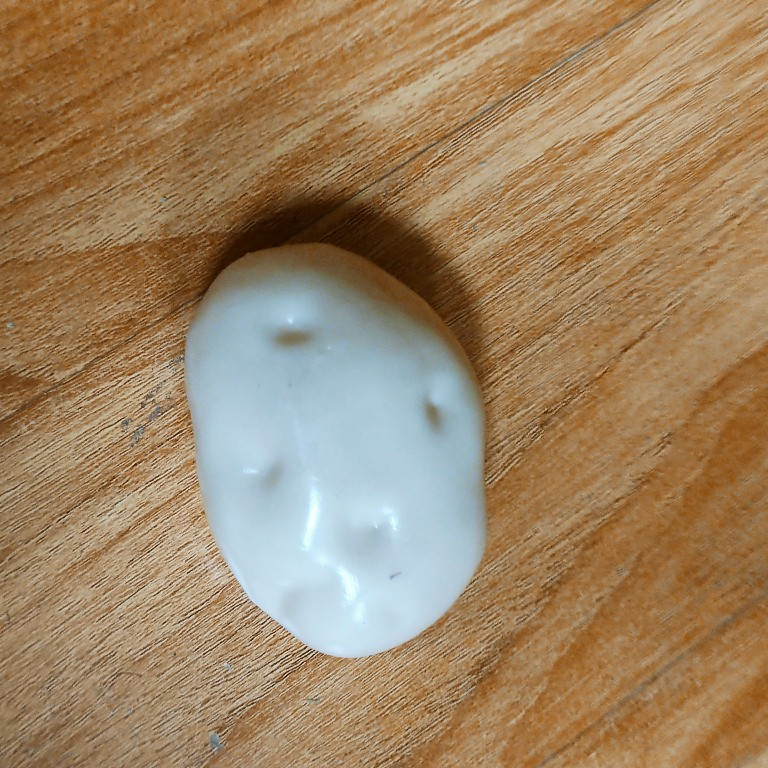fruit_potato: (177, 228, 494, 669)
